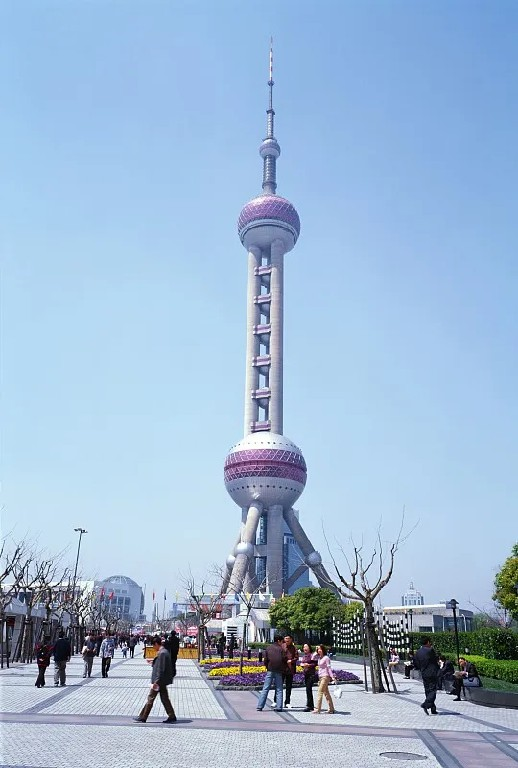Oriental: (219, 34, 335, 591)
